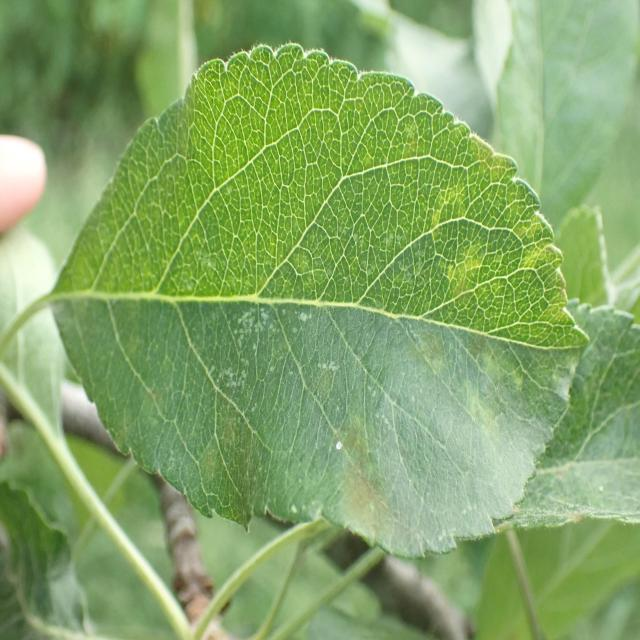scab: (92, 263, 573, 542)
